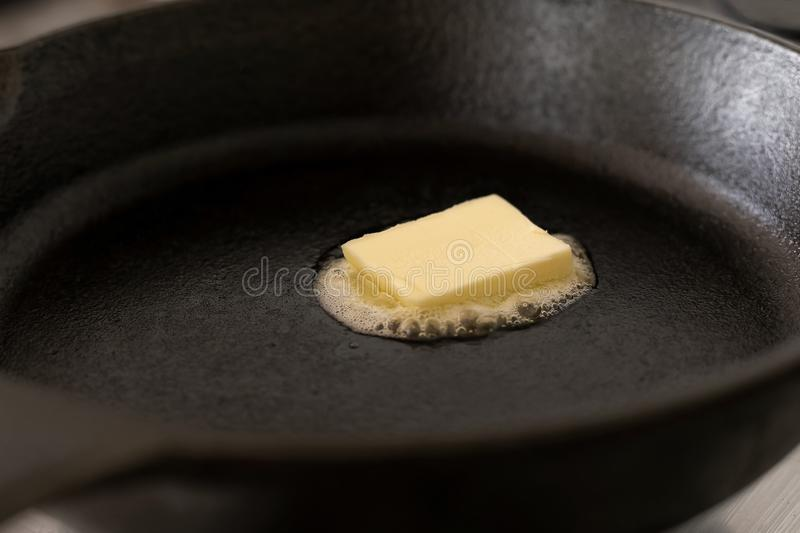Butter: (343, 195, 576, 306)
